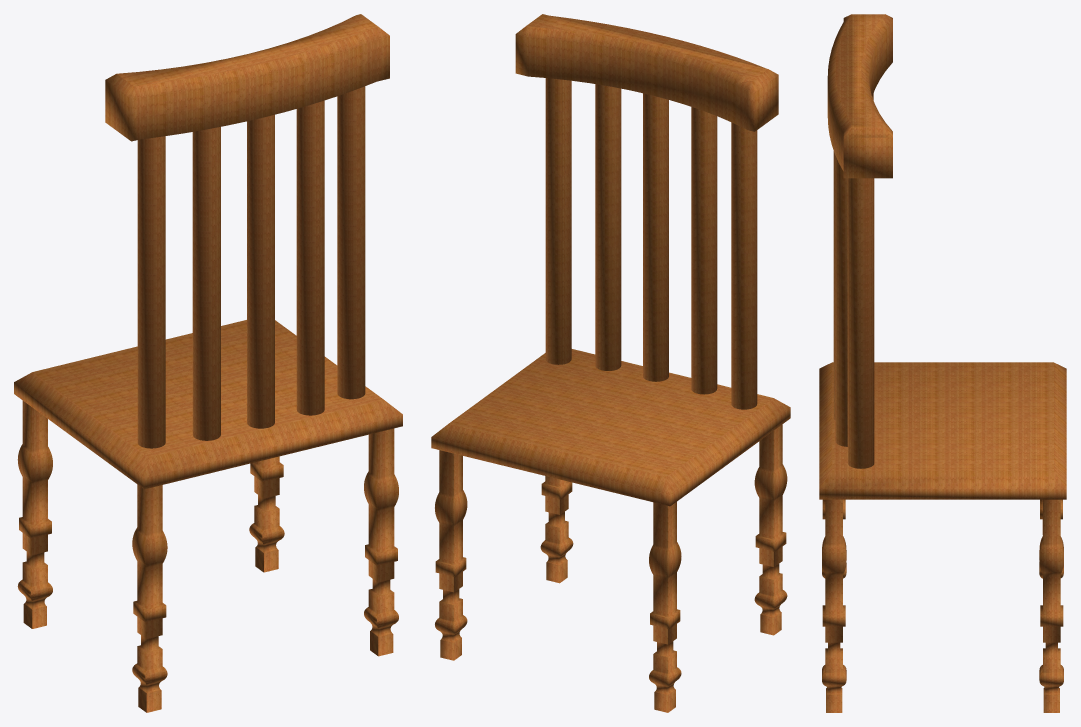
3 views of the same model, side by side, from view 1: azimuth 30°, elevation 25°; view 2: azimuth 150°, elevation 25°; view 3: azimuth 270°, elevation 25° (orthographic). The views are drawn at different scales.
Visible parts, largest first — view 1: mesh1_mesh1-geometry, mesh12_mesh12-geometry, mesh3_mesh3-geometry, mesh11_mesh11-geometry; view 2: mesh1_mesh1-geometry, mesh12_mesh12-geometry, mesh3_mesh3-geometry, mesh11_mesh11-geometry; view 3: mesh12_mesh12-geometry, mesh1_mesh1-geometry, mesh11_mesh11-geometry, mesh3_mesh3-geometry.
Boxes of the visible parts, left/top/right/bottom form: mesh1_mesh1-geometry: left=137, top=86, right=365, bottom=448; mesh12_mesh12-geometry: left=14, top=320, right=402, bottom=489; mesh3_mesh3-geometry: left=17, top=401, right=398, bottom=712; mesh11_mesh11-geometry: left=105, top=14, right=389, bottom=141; mesh1_mesh1-geometry: left=545, top=78, right=757, bottom=409; mesh12_mesh12-geometry: left=431, top=349, right=790, bottom=506; mesh3_mesh3-geometry: left=435, top=424, right=787, bottom=712; mesh11_mesh11-geometry: left=515, top=14, right=778, bottom=131; mesh12_mesh12-geometry: left=819, top=362, right=1066, bottom=499; mesh1_mesh1-geometry: left=833, top=94, right=874, bottom=468; mesh11_mesh11-geometry: left=827, top=14, right=892, bottom=178; mesh3_mesh3-geometry: left=822, top=499, right=1063, bottom=712.
Bounding box in the file's own units: 0.3794 × 0.864 × 0.3309.
